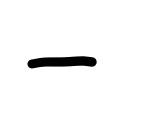minus: (28, 56, 97, 69)
